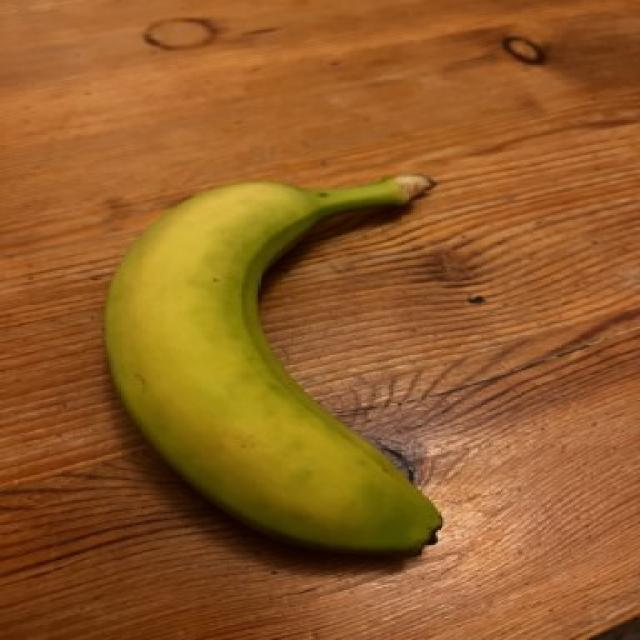Unripe: (76, 143, 508, 576)
